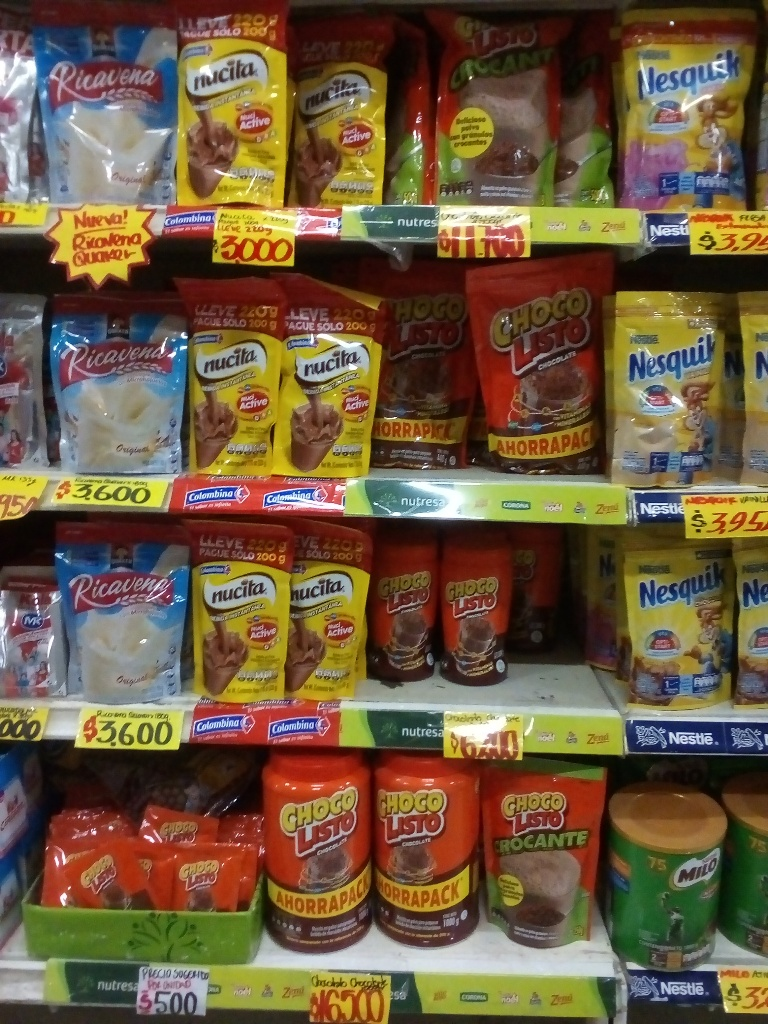COL0170102DYP25000: (478, 759, 601, 951)
COL0170102DYP50000: (434, 5, 552, 204)
COL0170103DYP40000: (367, 258, 476, 471)
COL0170103SOB02000: (66, 849, 163, 906)
COL0170103TRR00100: (253, 747, 365, 958)
COL0170103TRR30000: (368, 525, 439, 690)
COL0170303DYP20000: (603, 534, 737, 724)
COL0170306DYP20000: (604, 282, 734, 480)
